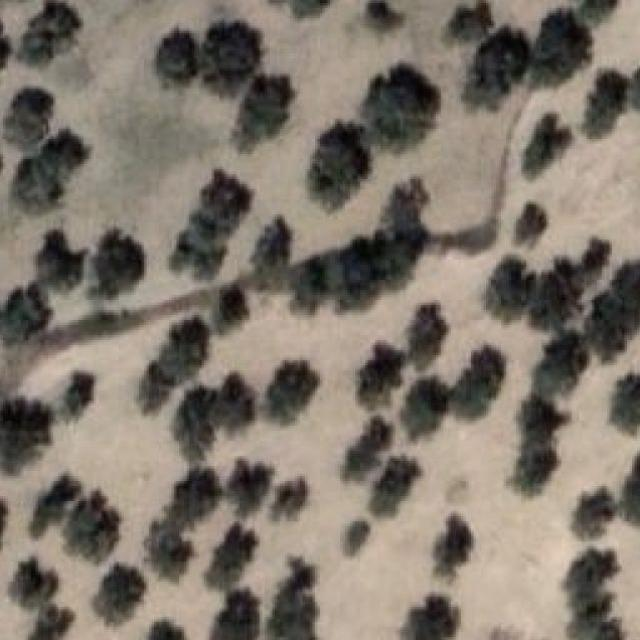Tree: (363, 65, 436, 154), (225, 78, 300, 159), (256, 355, 325, 442), (347, 444, 421, 521), (243, 217, 308, 304), (303, 124, 372, 204), (161, 375, 219, 468), (0, 274, 64, 358), (22, 119, 89, 198), (322, 243, 385, 324), (588, 257, 640, 354), (194, 16, 257, 96), (450, 345, 513, 425), (342, 343, 411, 415), (530, 8, 595, 83), (465, 28, 531, 100), (10, 0, 82, 66), (26, 471, 94, 539), (378, 194, 433, 277), (534, 333, 587, 417), (558, 544, 614, 623), (193, 171, 255, 241), (0, 395, 52, 475), (151, 315, 214, 381), (65, 494, 121, 568), (163, 227, 226, 292), (480, 255, 541, 322), (206, 372, 264, 442), (30, 226, 91, 292), (277, 551, 321, 640), (88, 217, 151, 279), (39, 357, 96, 424), (397, 581, 461, 640), (515, 114, 573, 178), (284, 262, 342, 326), (344, 411, 396, 478), (206, 521, 260, 584), (150, 25, 199, 94), (217, 459, 270, 521), (95, 551, 144, 618), (140, 516, 189, 582), (577, 66, 622, 137), (407, 300, 448, 376), (164, 466, 216, 524), (0, 81, 49, 141), (532, 255, 577, 320), (438, 1, 488, 59), (10, 559, 65, 611), (567, 591, 625, 640), (506, 434, 557, 489), (397, 378, 448, 432), (208, 285, 257, 341), (567, 491, 614, 548), (431, 509, 478, 564), (609, 368, 640, 448), (507, 197, 554, 249), (212, 591, 260, 640), (272, 469, 315, 523), (615, 441, 640, 531), (517, 390, 562, 439), (568, 237, 612, 282), (18, 602, 69, 640), (134, 367, 177, 412), (335, 511, 370, 559), (364, 0, 398, 37), (621, 65, 640, 130), (0, 489, 13, 563)
